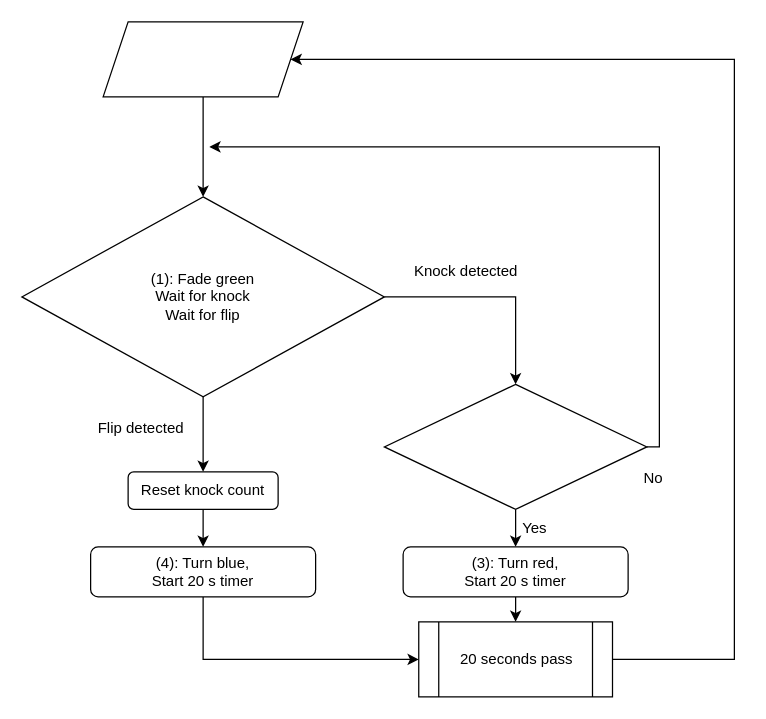
Some shapes in this 766 by 719 pixel diagram are drawn without their labels. The shapes that lost their labels are listed below. From the top down, each one's centre as x and y in pixels, then its label:
At (202,59): "(0): Start NeoPixel off Color = green".
At (515,446): "(2): Increment knock count, 5 taps detected?".
